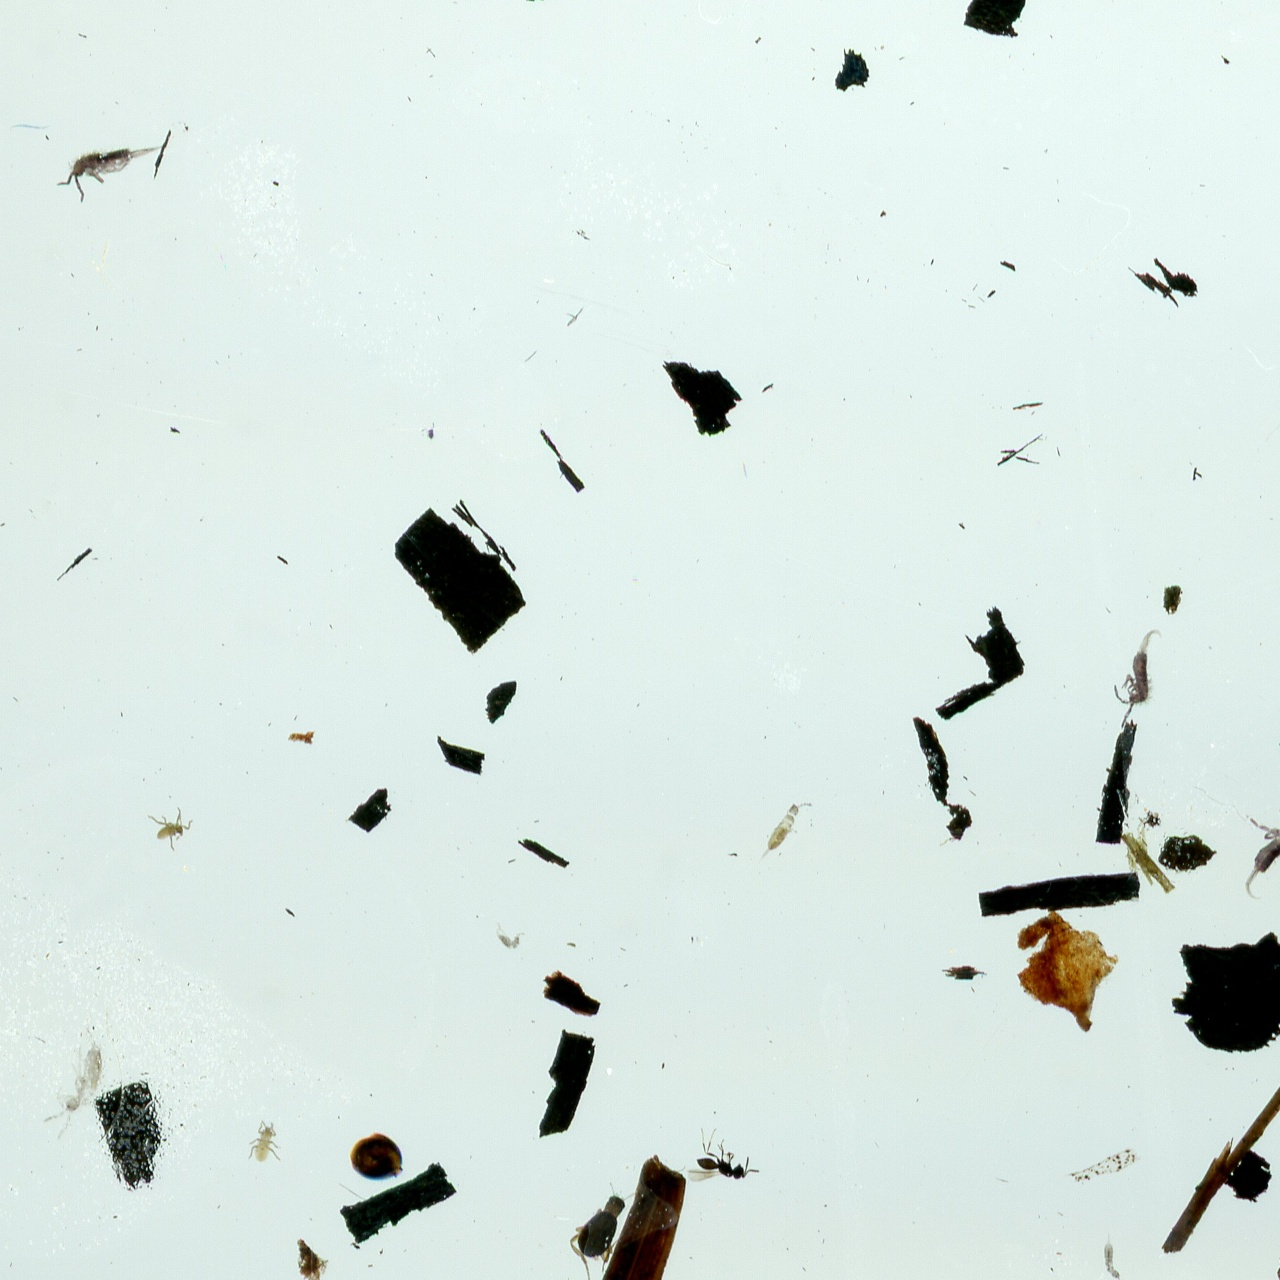arthropod: (32, 1019, 127, 1150), (556, 1173, 640, 1280), (50, 136, 170, 210), (1213, 779, 1280, 904), (1113, 627, 1164, 732), (753, 791, 815, 873), (680, 1127, 761, 1184), (348, 1130, 408, 1184), (147, 806, 194, 852), (247, 1120, 282, 1164), (1101, 1228, 1124, 1280), (494, 919, 527, 953)
